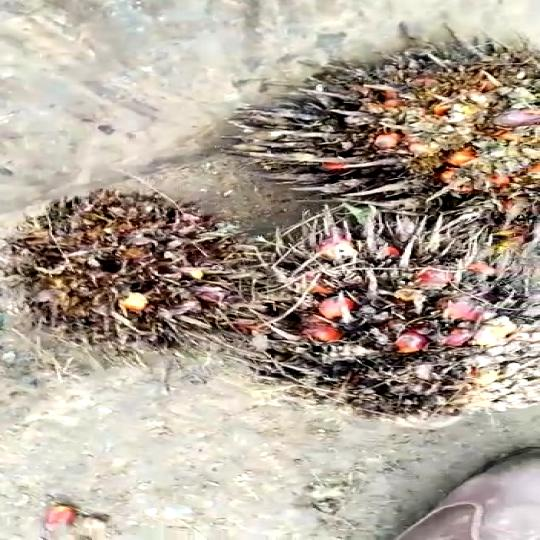terlalu masak: (235, 223, 539, 411), (0, 200, 255, 354)
